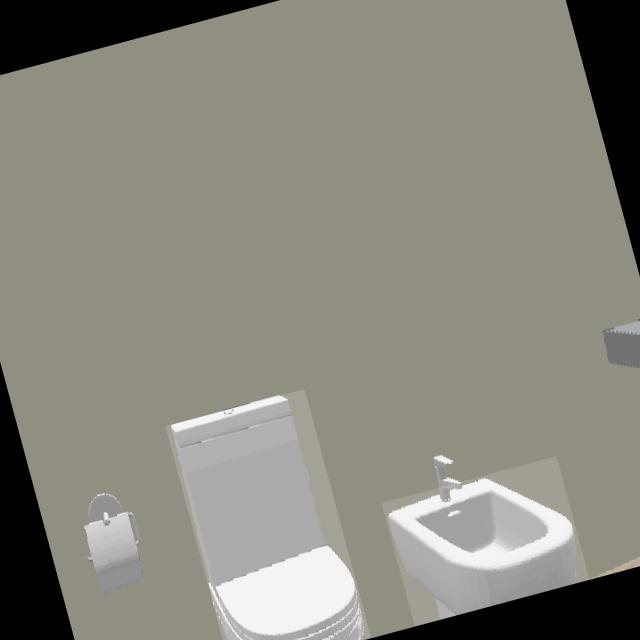toilet: (171, 397, 366, 640)
washbasin: (387, 478, 579, 616)
